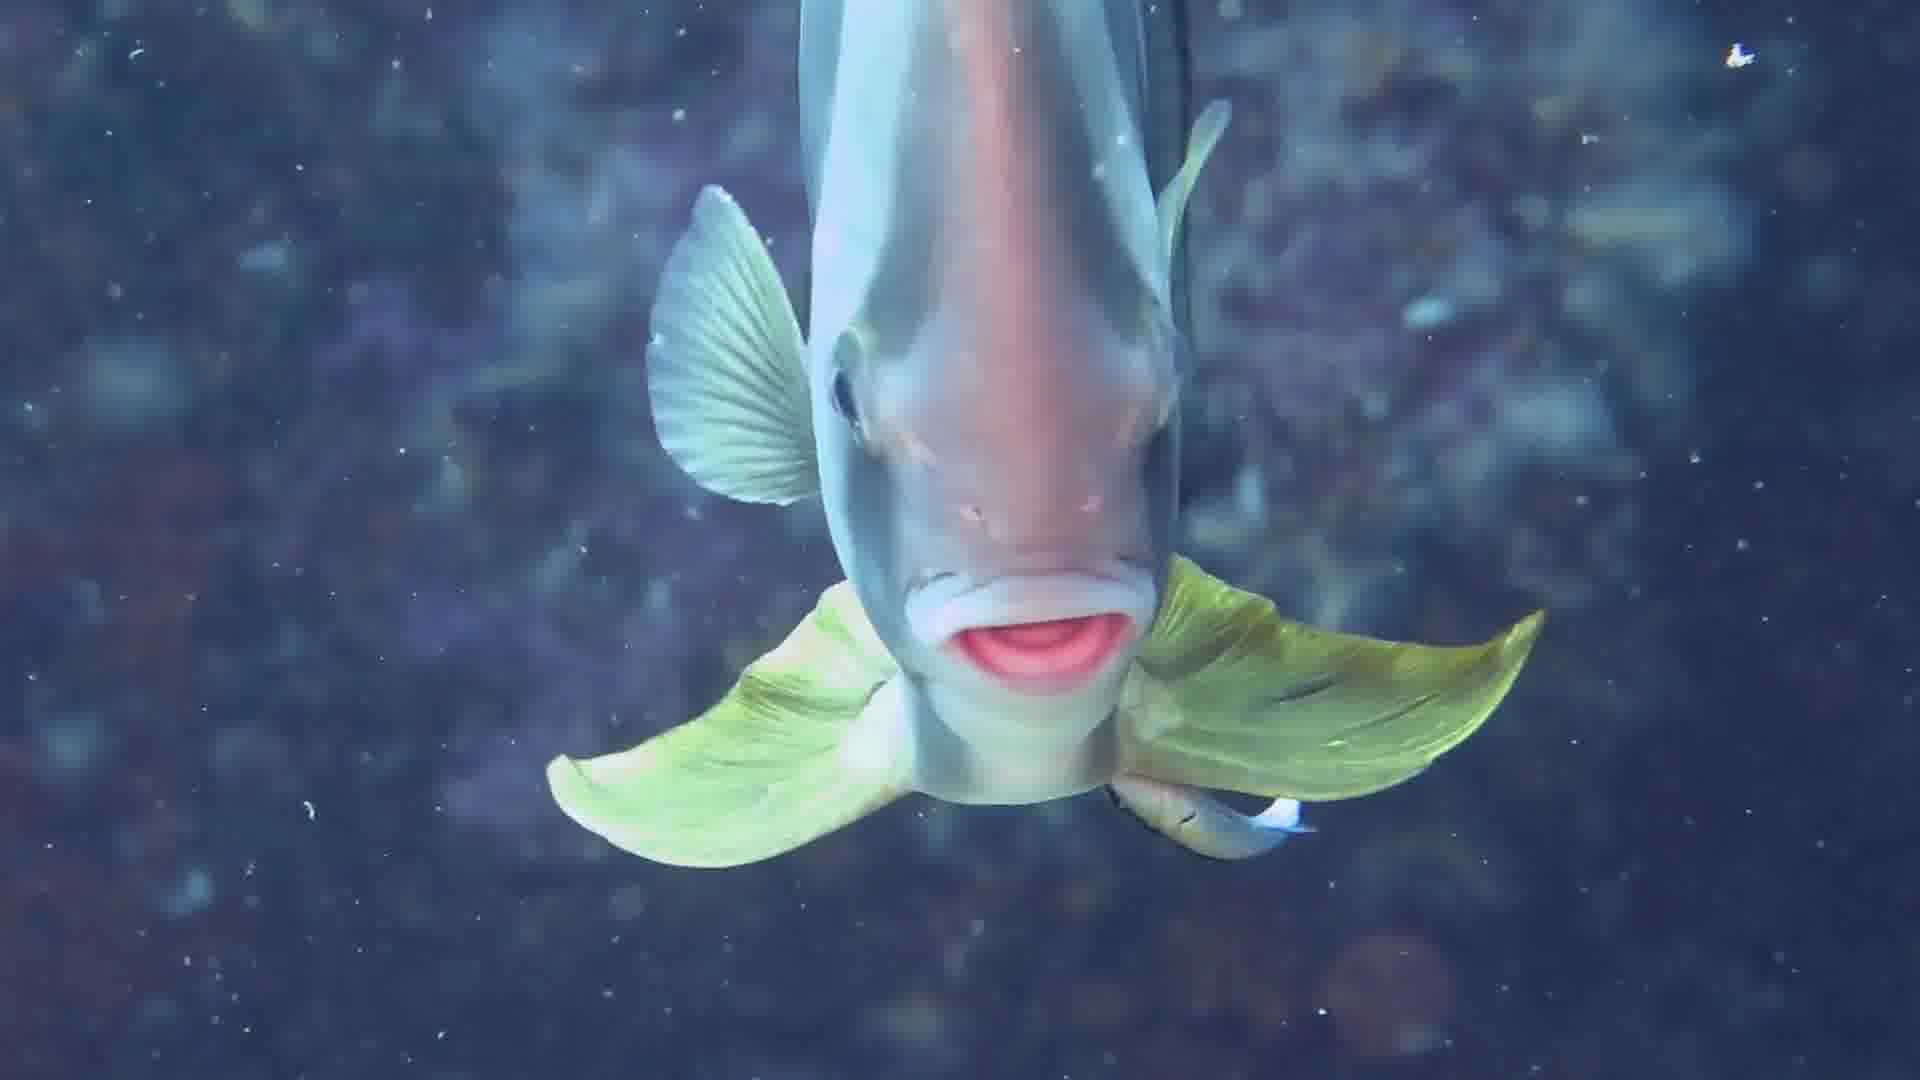Platax teira: (491, 1, 1540, 897)
